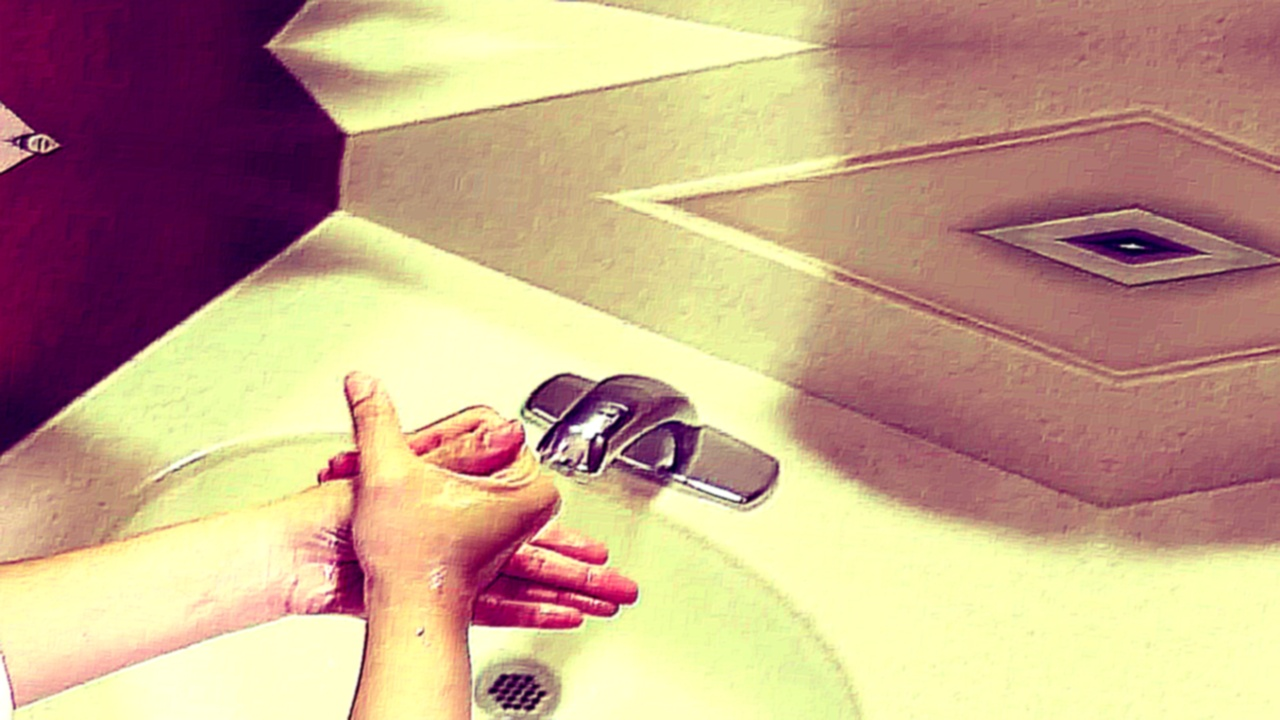washing hand: (282, 299, 840, 719)
